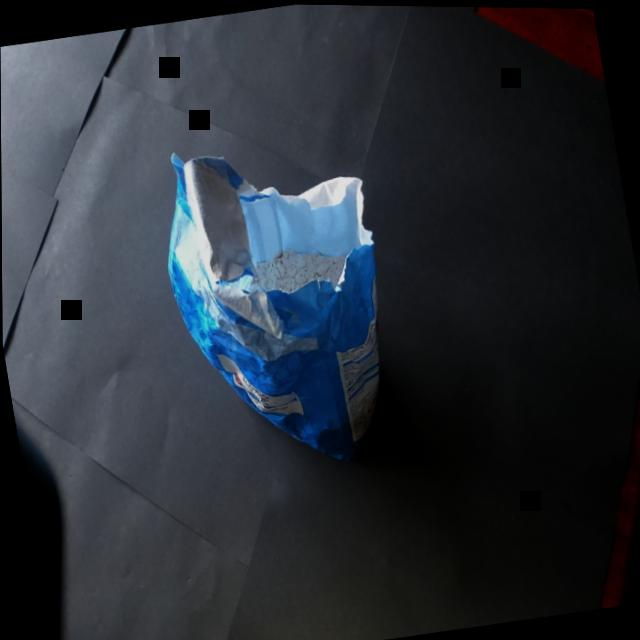Flour: (140, 101, 449, 511)
